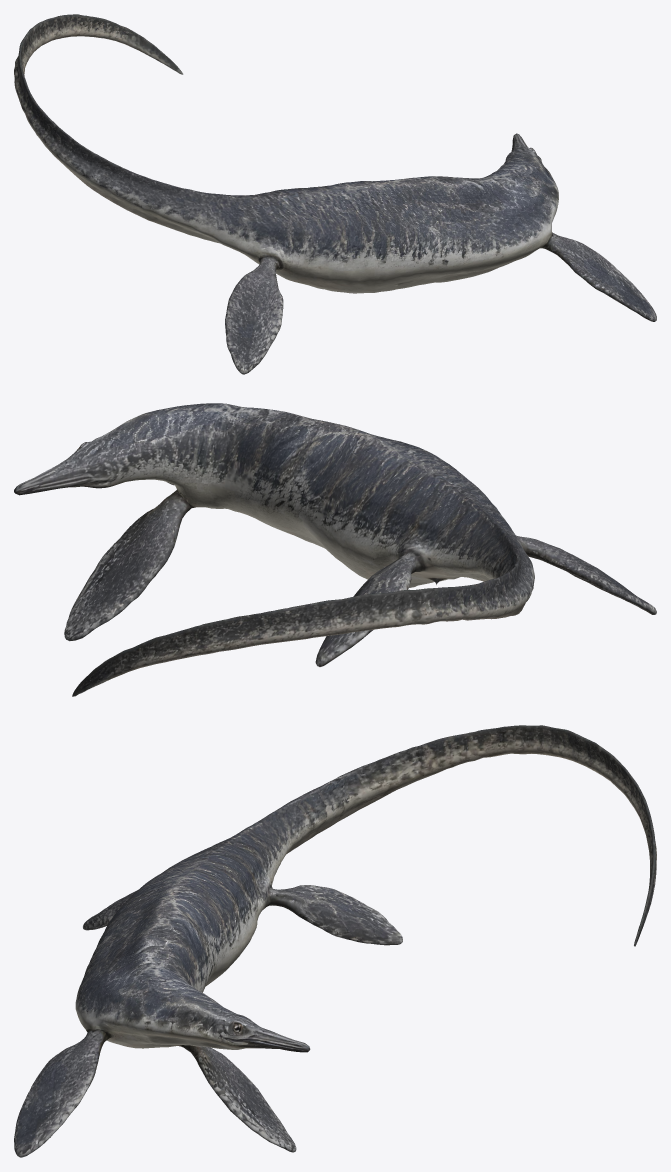
The model's file is askeptosaurus.preview.glb.
3 renders of one model, top to bottom at view 1: azimuth 30°, elevation 25°; view 2: azimuth 150°, elevation 25°; view 3: azimuth 270°, elevation 25°, orthographic. The views are drawn at different scales.
Parts seen in each view (by area): view 1: tripo_node_93520fae-b1e1-4356-a4e1-46f978243502.001; view 2: tripo_node_93520fae-b1e1-4356-a4e1-46f978243502.001; view 3: tripo_node_93520fae-b1e1-4356-a4e1-46f978243502.001.
Part boxes in pixels (<box>): tripo_node_93520fae-b1e1-4356-a4e1-46f978243502.001: <box>14,14,656,374</box>; tripo_node_93520fae-b1e1-4356-a4e1-46f978243502.001: <box>14,403,656,696</box>; tripo_node_93520fae-b1e1-4356-a4e1-46f978243502.001: <box>14,725,656,1157</box>.
Size of the model in its own units: 0.8599 by 0.3999 by 1.
1 material, 1 textured.
